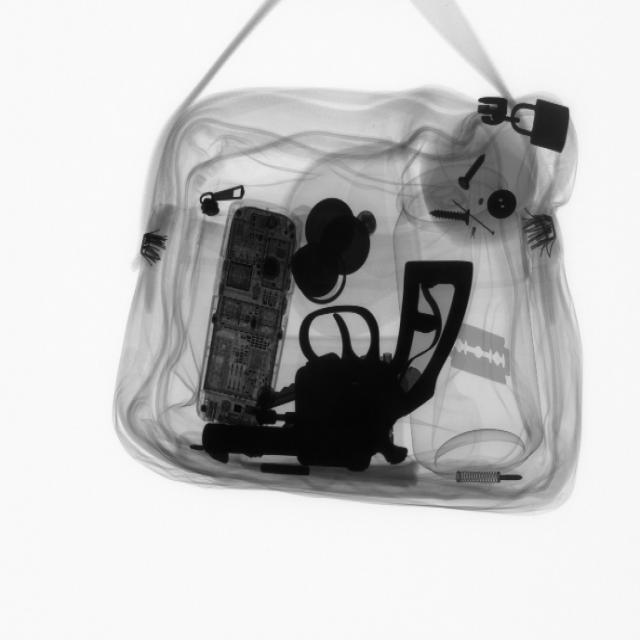BLADE: (444, 316, 515, 385)
GUN: (200, 253, 471, 474)
SCREW: (420, 200, 482, 235), (451, 145, 491, 199)
